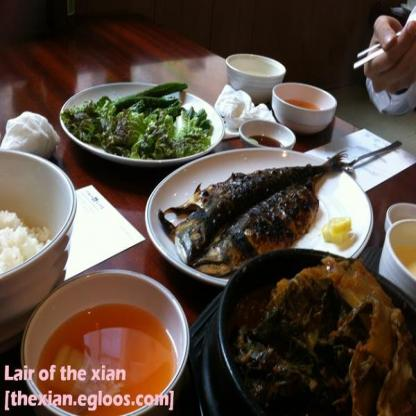Peixe: (167, 155, 356, 280)
